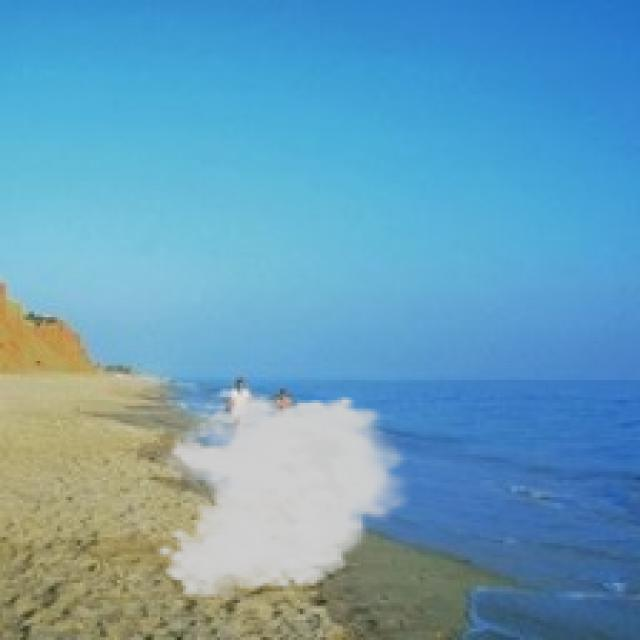Smoke: (154, 383, 417, 600)
